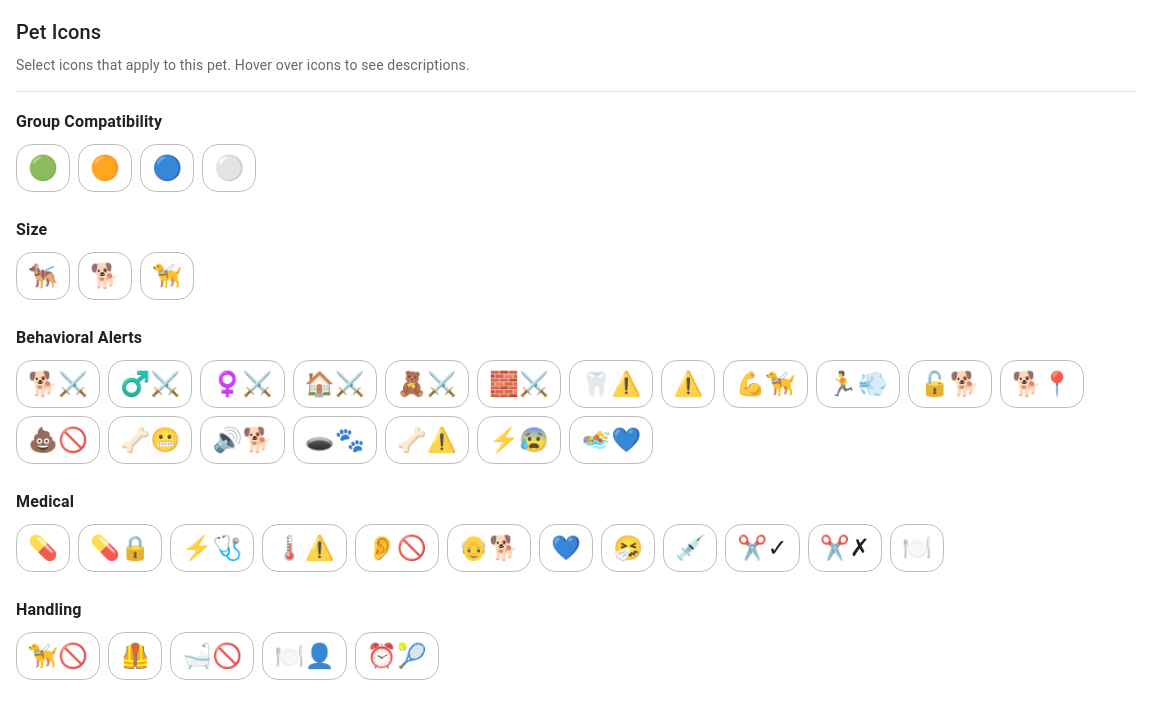
Test: EmojiPetIconSelector › Icon Tooltips › should show tooltip with description on hover
// Hover over first icon
Hover over the button "🟢" at point(43, 168), box x1=16 y1=144 x2=70 y2=192
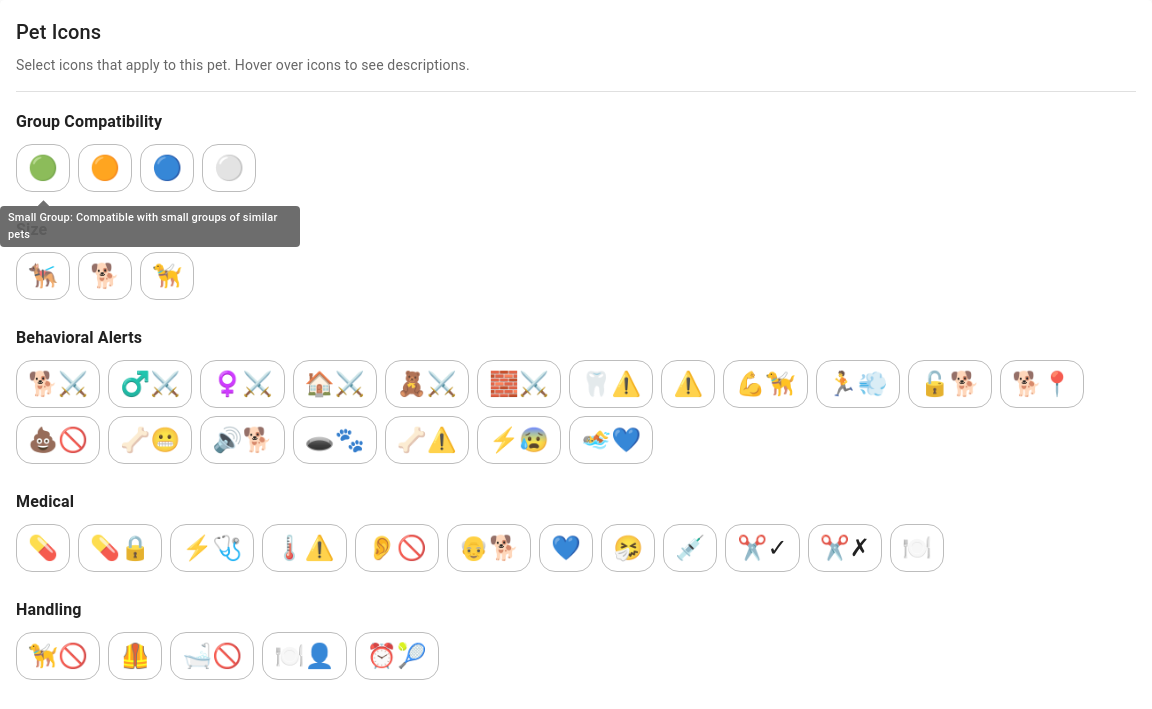
Result: the tooltip "Small Group: Compatible with small groups of similar pets" is shown at x1=0 y1=192 x2=300 y2=247
